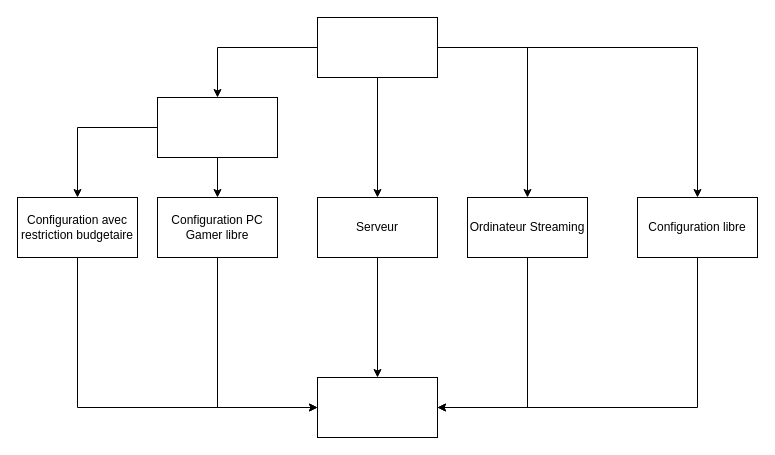
This 775x455 diagram has some shape labels left out. The shapes that lost their labels are listed below. From the top down, each one's centre as x and y in pixels, then its label:
point (377, 47): Choix du type de Configuration
point (217, 127): Ordinateur Gamer
point (377, 407): Résumé de la configuration
